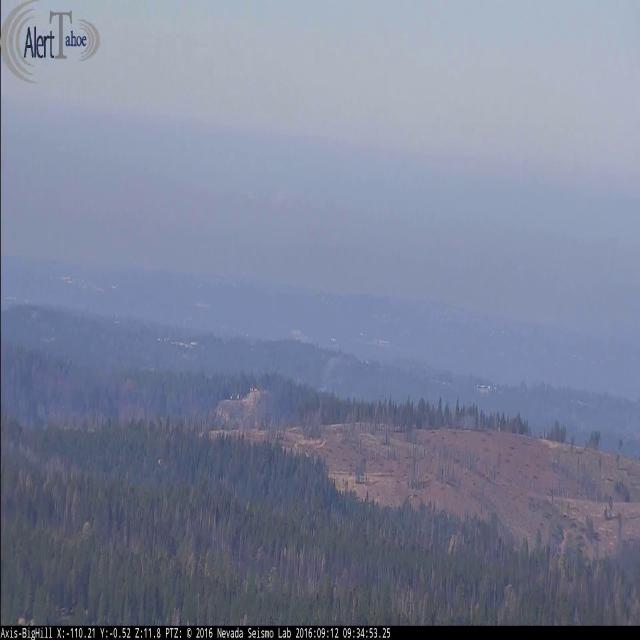smoke: (317, 354, 350, 392)
